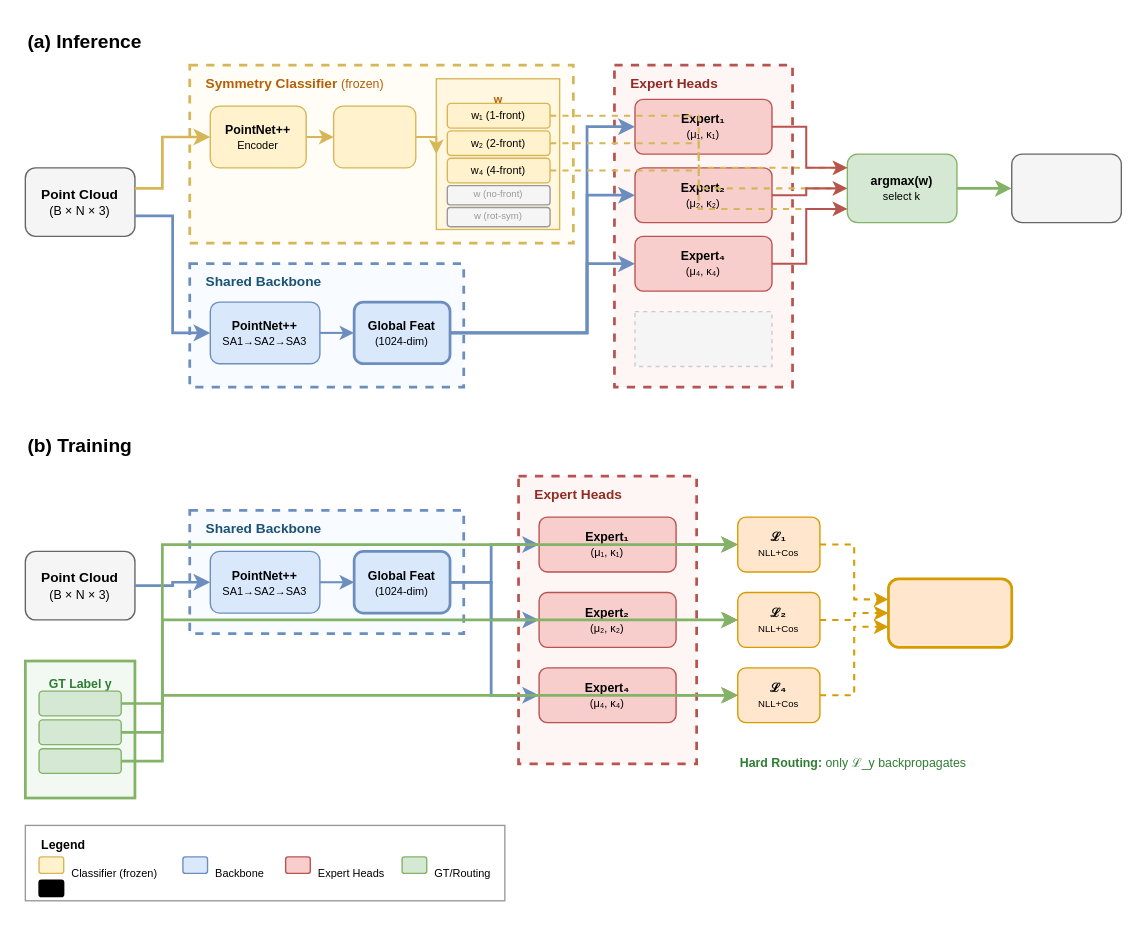
This 1145x925 diagram has some shape labels left out. The box of each missing label's shape, as (x1, y1, x2, y2) in pixels:
FC Head Softmax: (332, 105, 416, 168)
no-front / rot-sym → no orientation: (634, 310, 772, 366)
Output (μₖ, κₖ): (1010, 153, 1121, 223)
Total Loss ℒ = ℒ_y: (886, 577, 1012, 648)
y = 1-front: (38, 690, 121, 716)
y = 2-front: (38, 719, 121, 745)
y = 4-front: (38, 747, 121, 773)
